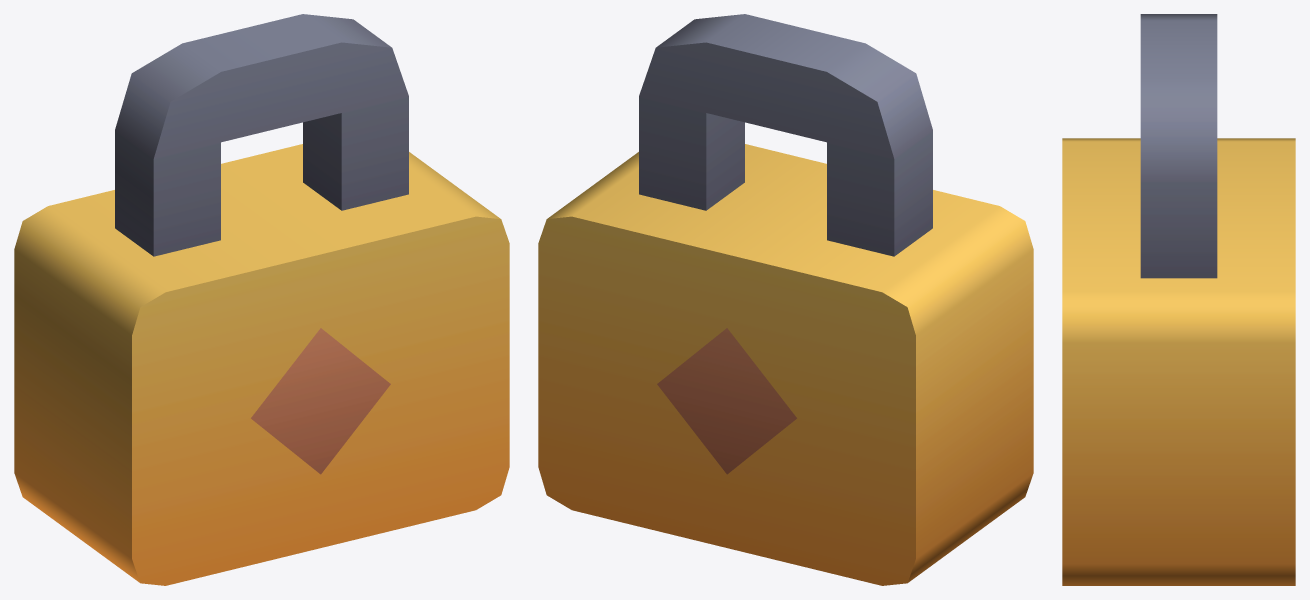
File: Lock.glb
3 views of the same model, side by side, from view 1: azimuth 30°, elevation 25°; view 2: azimuth 150°, elevation 25°; view 3: azimuth 270°, elevation 25° (orthographic).
Parts seen in each view (by area): view 1: lock; view 2: lock; view 3: lock.
Boxes of the visible parts, left/top/right/bottom form: lock: left=14, top=14, right=509, bottom=585; lock: left=538, top=14, right=1033, bottom=585; lock: left=1062, top=14, right=1295, bottom=585.
Bounding box in the file's own units: 0.3433 × 0.4012 × 0.1853.
Materials: 1 (1 with a texture image).
